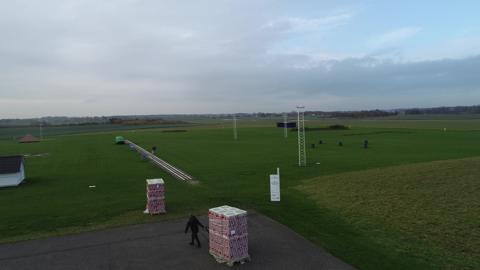RockwoolPallet: (144, 178, 166, 213)
